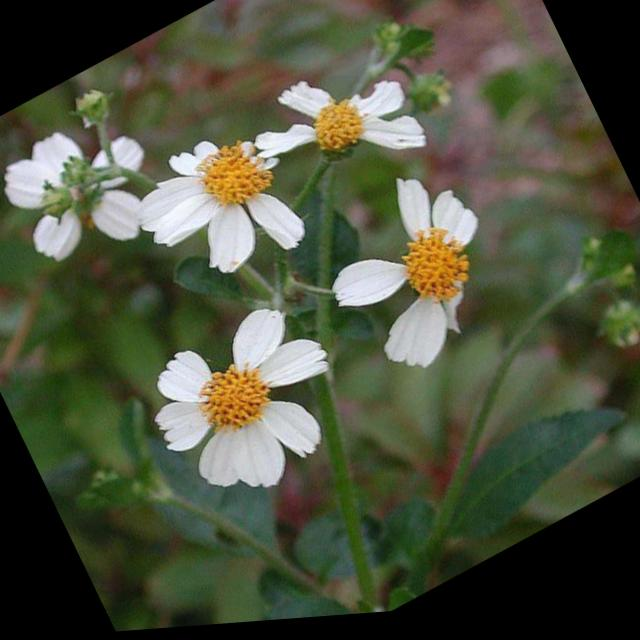Flower: (119, 276, 387, 539), (303, 154, 530, 405), (129, 98, 338, 319), (232, 34, 437, 228), (0, 95, 163, 287)
